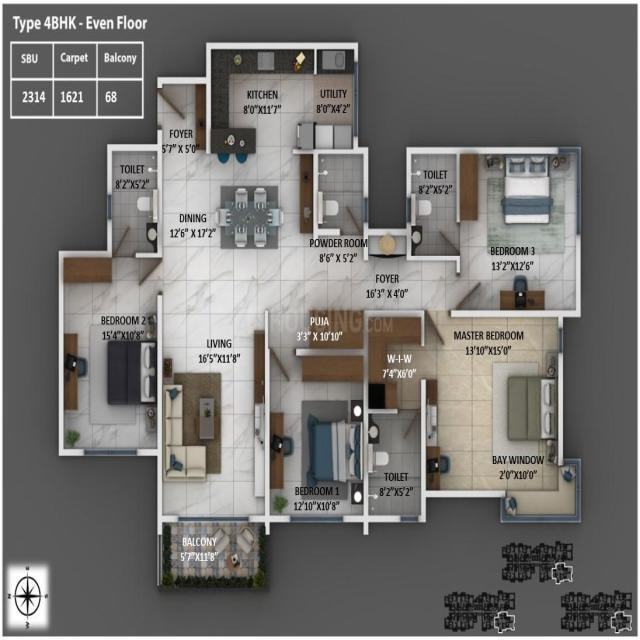Balcony-Sitout: (164, 525, 264, 582)
Bedroom: (270, 357, 361, 512)
Bedroom with Toilet: (368, 314, 582, 521), (63, 149, 158, 451), (412, 153, 577, 312)
Dining: (213, 180, 289, 257)
Dress: (370, 318, 422, 409)
Enterance-Foyer: (160, 86, 205, 153)
Kitchen: (211, 50, 313, 152)
Living: (164, 297, 264, 512)
Pooja: (271, 297, 360, 344)
Toilet: (370, 416, 422, 517), (412, 158, 455, 251), (114, 155, 155, 250), (319, 156, 362, 232)
Utility: (317, 50, 352, 146)
